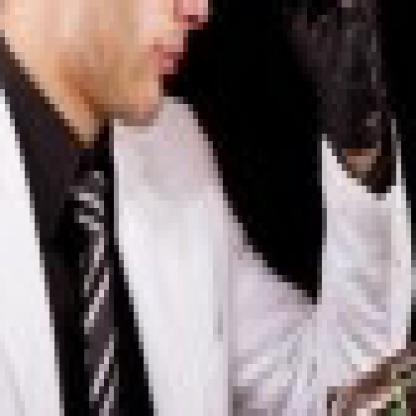gun: (272, 238, 411, 408)
